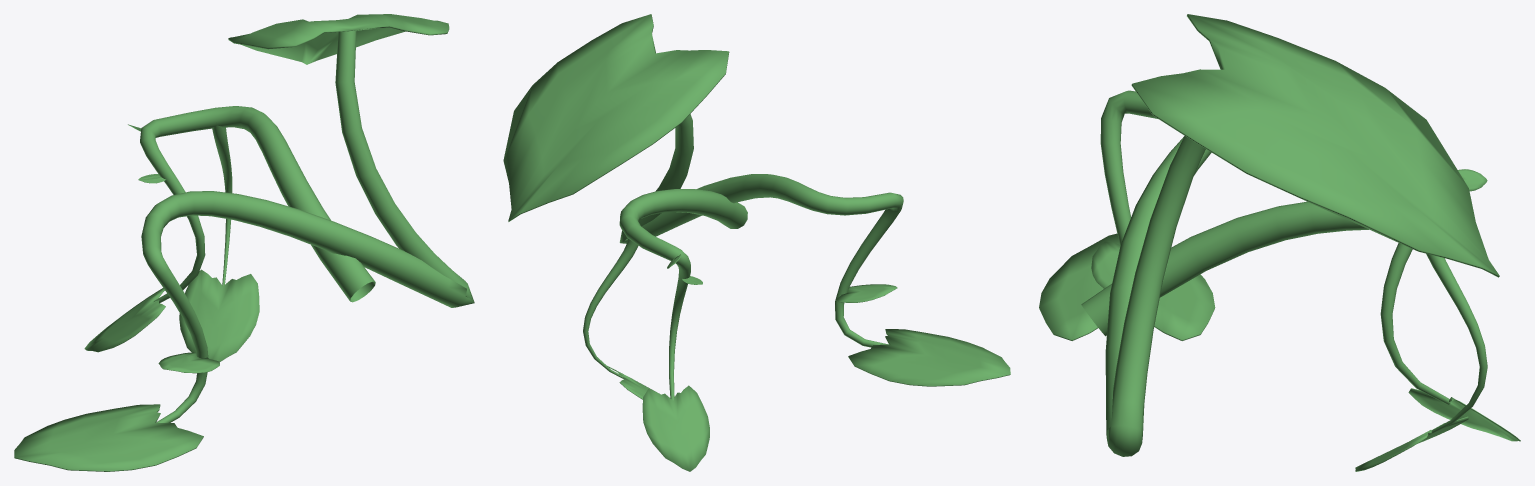
Rendered from plant2.fbx.
3 renders of one model, left to right at view 1: azimuth 30°, elevation 25°; view 2: azimuth 150°, elevation 25°; view 3: azimuth 270°, elevation 25°, orthographic. The views are drawn at different scales.
Visible parts, largest first — view 1: BezierCurve, BezierCurve.001, Plane.002, Plane.015, Plane.005, Plane.004, Plane.003; view 2: Plane.015, BezierCurve, BezierCurve.001, Plane.002, Plane.004, Plane.003; view 3: Plane.015, BezierCurve, BezierCurve.001, Plane.002, Plane.004, Plane.003, Plane.005.
Part boxes in pixels (x1,y1,x2,y2): BezierCurve: (141,30,474,422); BezierCurve.001: (140,106,375,303); Plane.002: (14,404,203,471); Plane.015: (228,14,449,64); Plane.005: (179,269,259,361); Plane.004: (84,288,165,352); Plane.003: (158,352,219,373); Plane.015: (503,14,729,221); BezierCurve: (619,114,903,347); BezierCurve.001: (583,189,747,400); Plane.002: (848,329,1010,386); Plane.004: (642,385,709,471); Plane.003: (835,284,897,302); Plane.015: (1131,14,1499,277); BezierCurve: (1100,90,1211,456); BezierCurve.001: (1081,201,1487,435); Plane.002: (1039,233,1215,340); Plane.004: (1408,388,1520,441); Plane.003: (1091,241,1120,288); Plane.005: (1355,416,1468,471).
Size of the model in its own units: 245 by 180 by 164.
